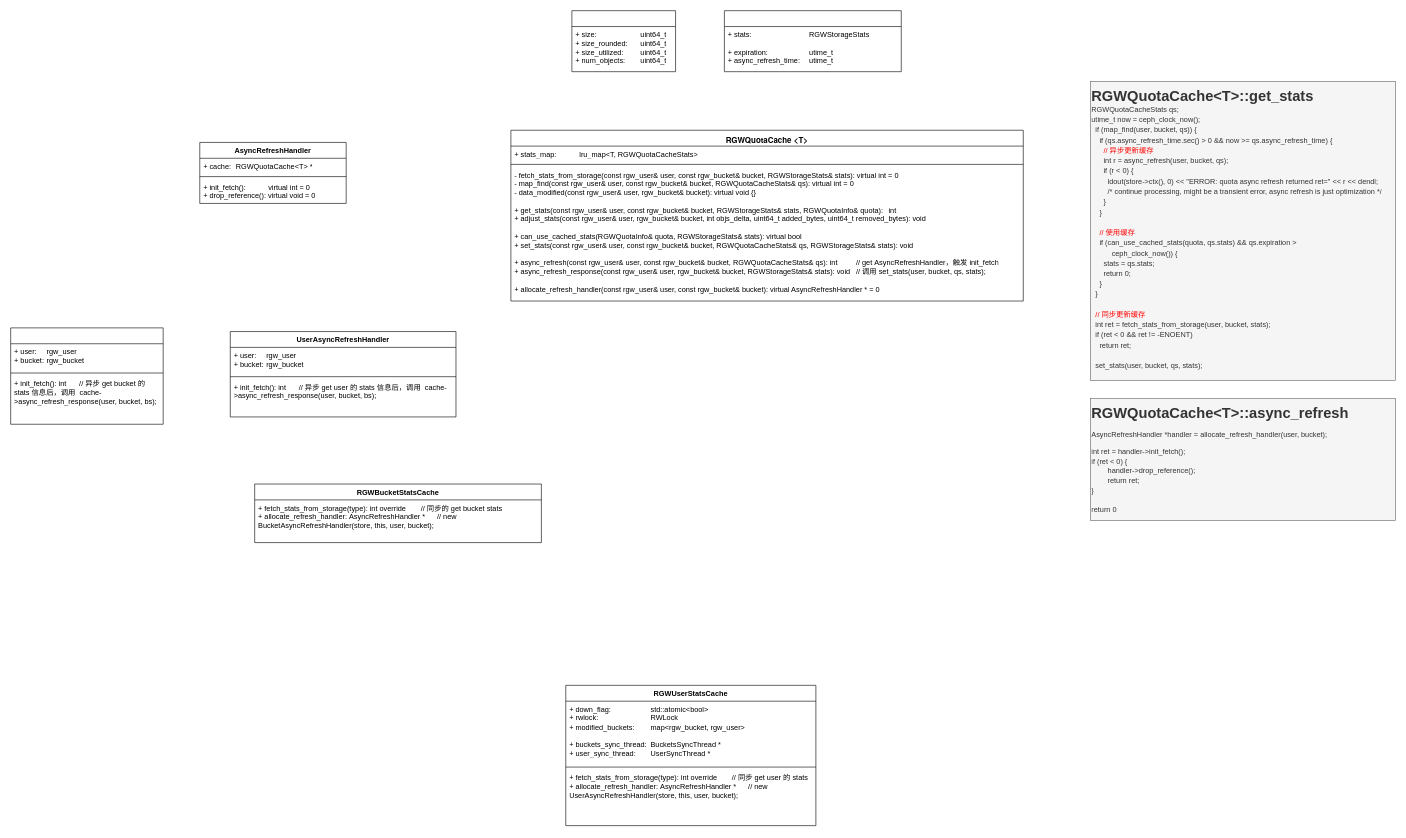
This 1406x838 diagram has some shape labels left out. Each missing label, with the box of its shape:
BucketAsyncRefreshHandler: (10, 327, 163, 424)
RGWQuotaCacheStats: (724, 10, 901, 72)
RGWStorageStats: (571, 10, 676, 72)
